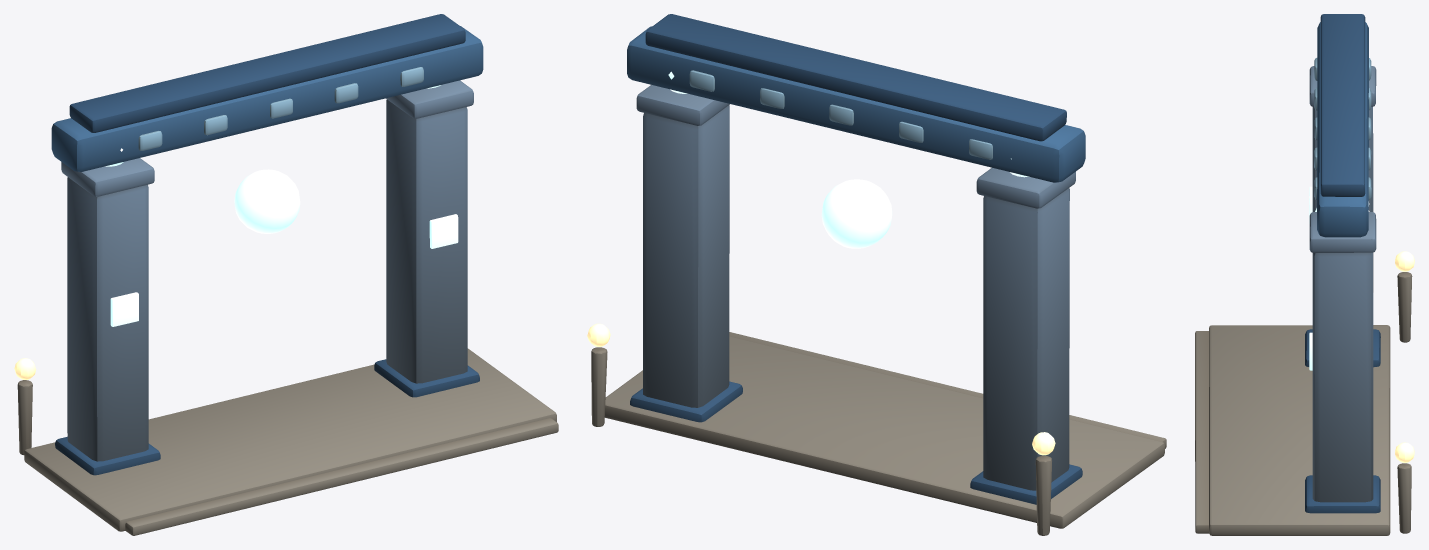
3 renders of one model, left to right at view 1: azimuth 30°, elevation 25°; view 2: azimuth 150°, elevation 25°; view 3: azimuth 270°, elevation 25°, orthographic. The views are drawn at different scales.
Parts seen in each view (by area): view 1: gate_ec777c27; view 2: gate_ec777c27; view 3: gate_ec777c27.
Boxes of the visible parts, x1,y1,x2,y2 form: gate_ec777c27: (14, 14, 558, 535); gate_ec777c27: (587, 14, 1166, 535); gate_ec777c27: (1195, 14, 1414, 535).
Size of the model in its own units: 5.51 by 4.33 by 2.55.
